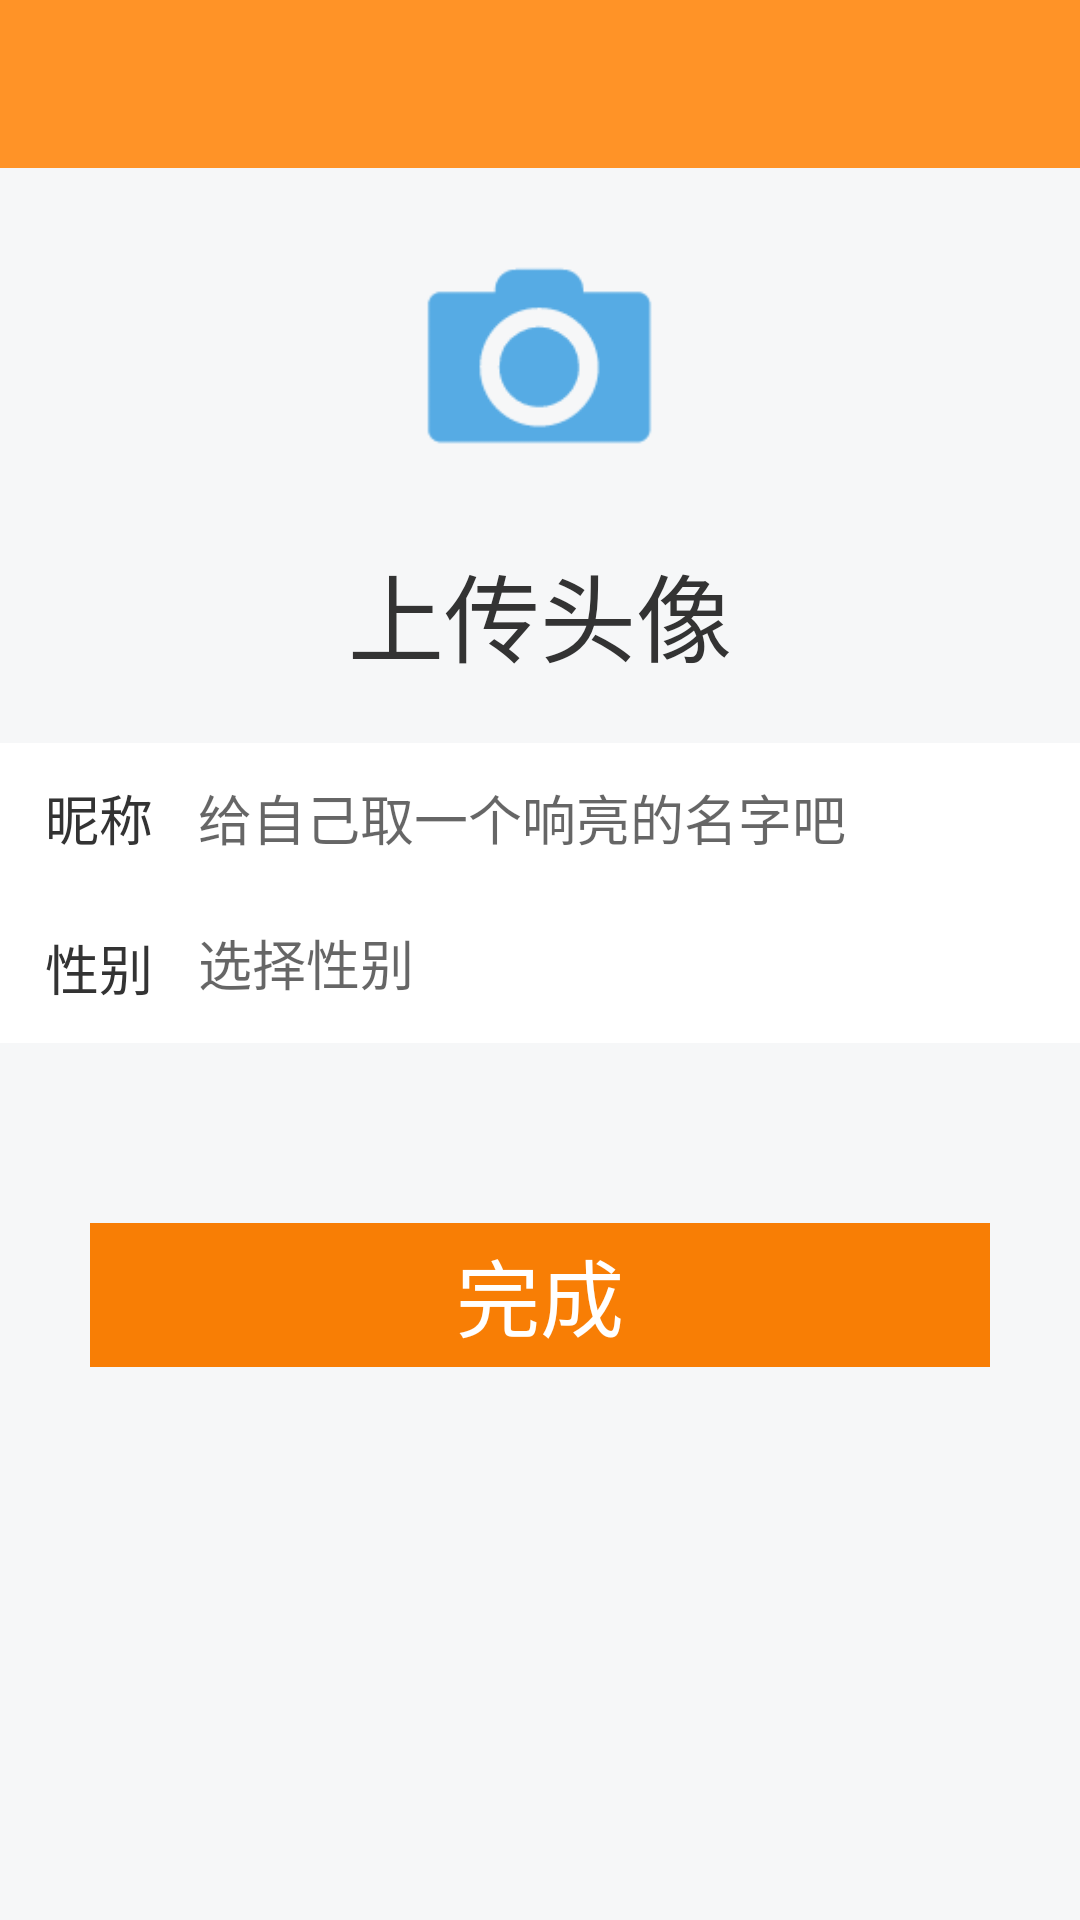

Locate icon controls on the screen. Image size 1080*1920, boxes as (x1, y1, x2, y2).
camera: (427, 268, 651, 444)
